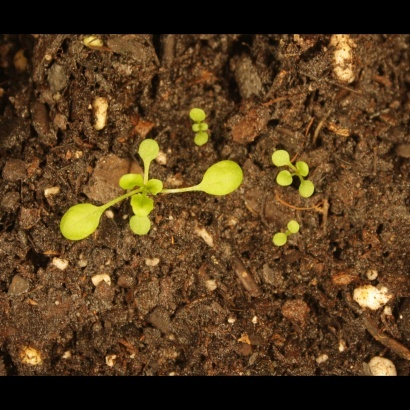leaf: (201, 156, 247, 205), (56, 202, 108, 245), (128, 127, 173, 168), (126, 216, 156, 248), (131, 193, 158, 225), (268, 171, 294, 199), (283, 216, 310, 241), (298, 180, 323, 204), (119, 171, 144, 195), (262, 230, 285, 255), (269, 148, 294, 171), (295, 154, 318, 178), (147, 173, 170, 196)
